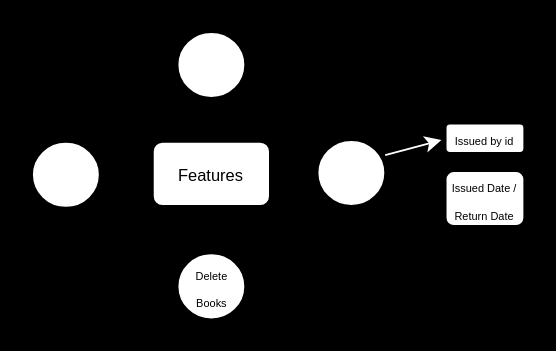
This 556x351 diagram has some shape labels left out. Each missing label, with the centre of its shape:
"Add Books" goes at (65,174).
"Availability" goes at (350,172).
